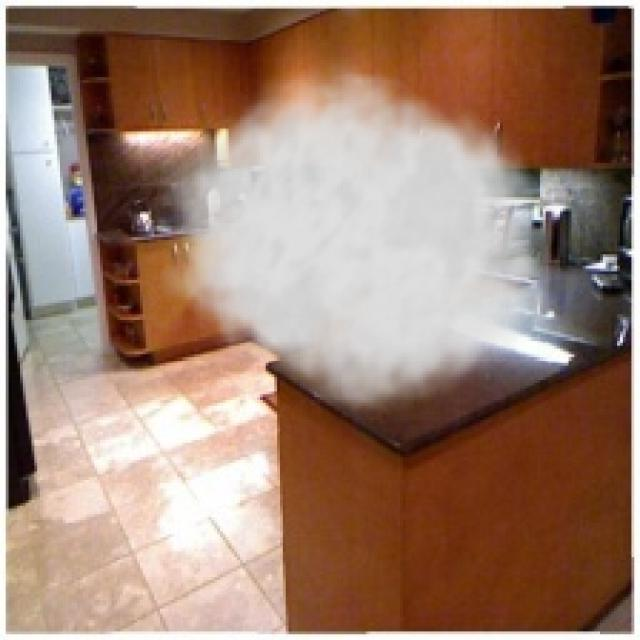Smoke: (160, 54, 566, 420)
